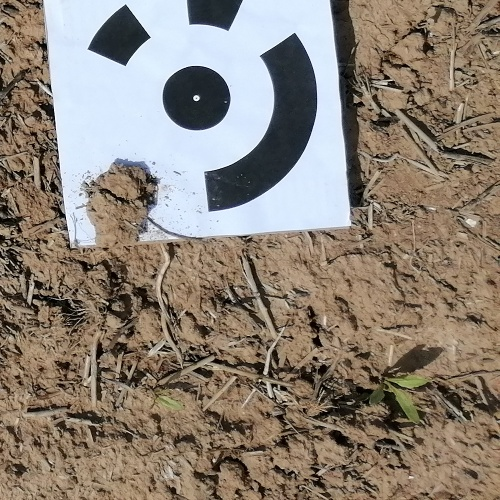beet: (372, 372, 425, 426), (151, 390, 181, 417)
